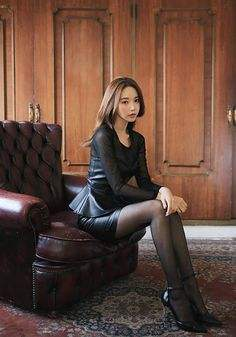person: (76, 58, 190, 291)
